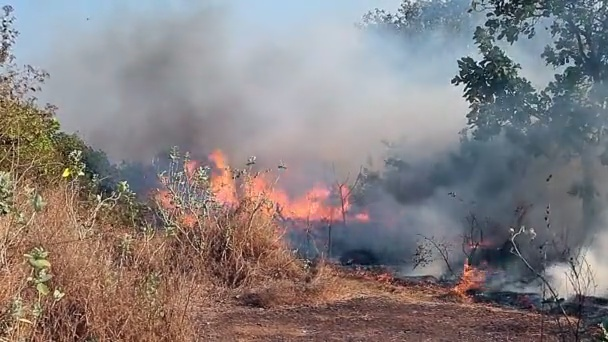fire: (277, 203, 338, 220), (209, 166, 236, 198), (464, 269, 475, 286), (61, 165, 71, 175)
